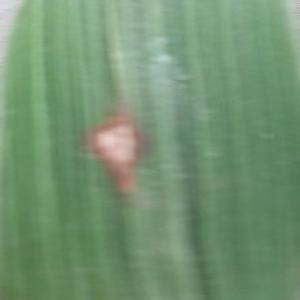1 RiceBlast: (58, 94, 166, 219)
